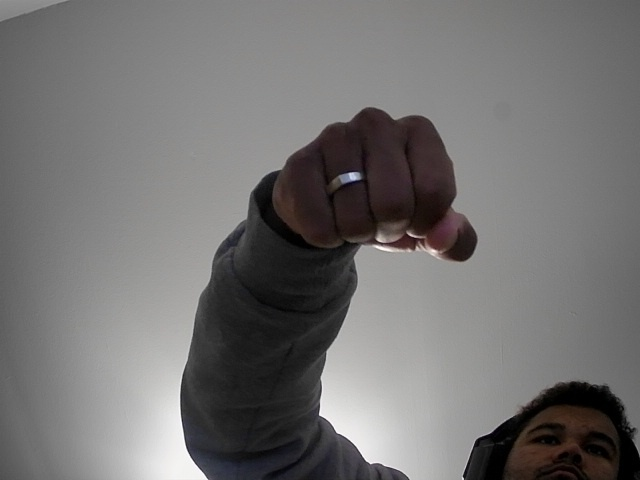Yes: (267, 99, 486, 279)
